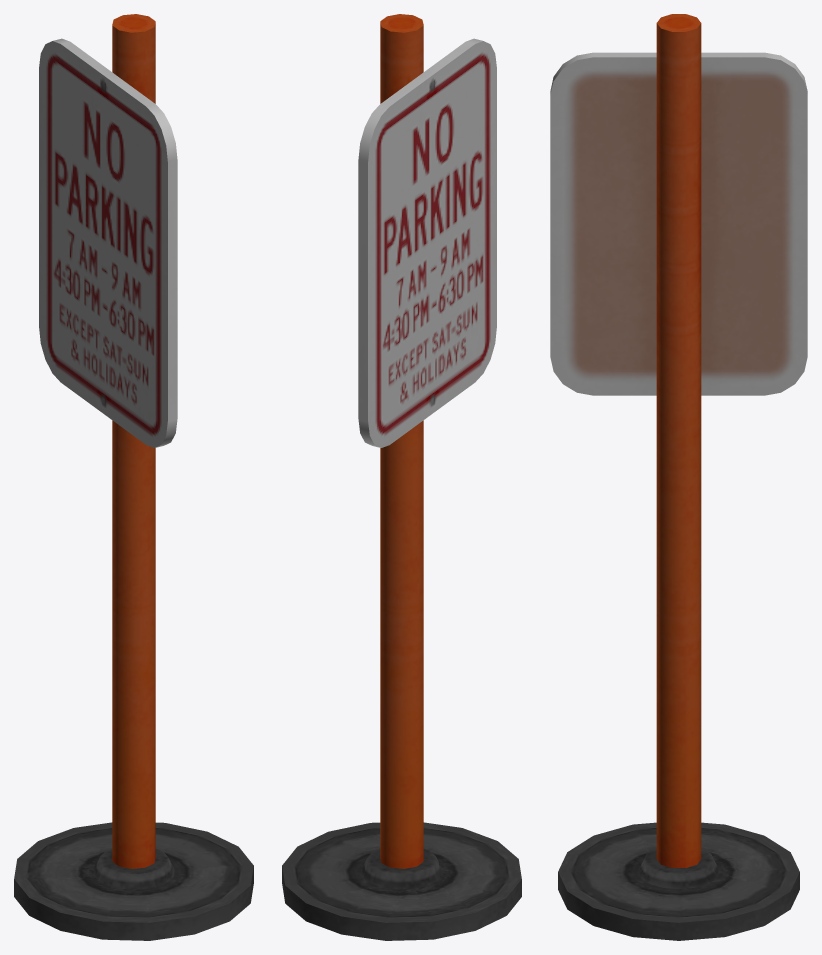
The model's file is MB_Parking_7_9_AM.fbx.
3 renders of one model, left to right at view 1: azimuth 30°, elevation 25°; view 2: azimuth 150°, elevation 25°; view 3: azimuth 270°, elevation 25°, orthographic.
Visible parts, largest first — view 1: MB_Parking_7_9_AM_LOD0; view 2: MB_Parking_7_9_AM_LOD0; view 3: MB_Parking_7_9_AM_LOD0.
Part boxes in pixels (x1,y1,x2,y2): MB_Parking_7_9_AM_LOD0: (14,14,253,940); MB_Parking_7_9_AM_LOD0: (282,14,521,940); MB_Parking_7_9_AM_LOD0: (550,14,807,940).
Size of what is drawn, in the model's own units: 23.8 by 94.15 by 25.34.
